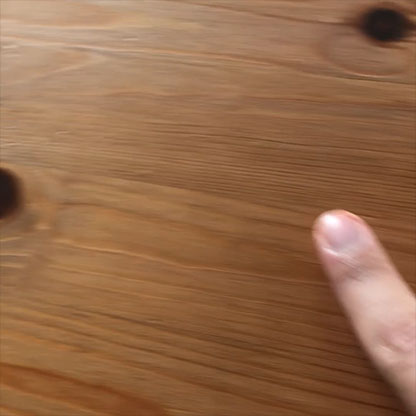fingertip: (304, 199, 394, 274)
